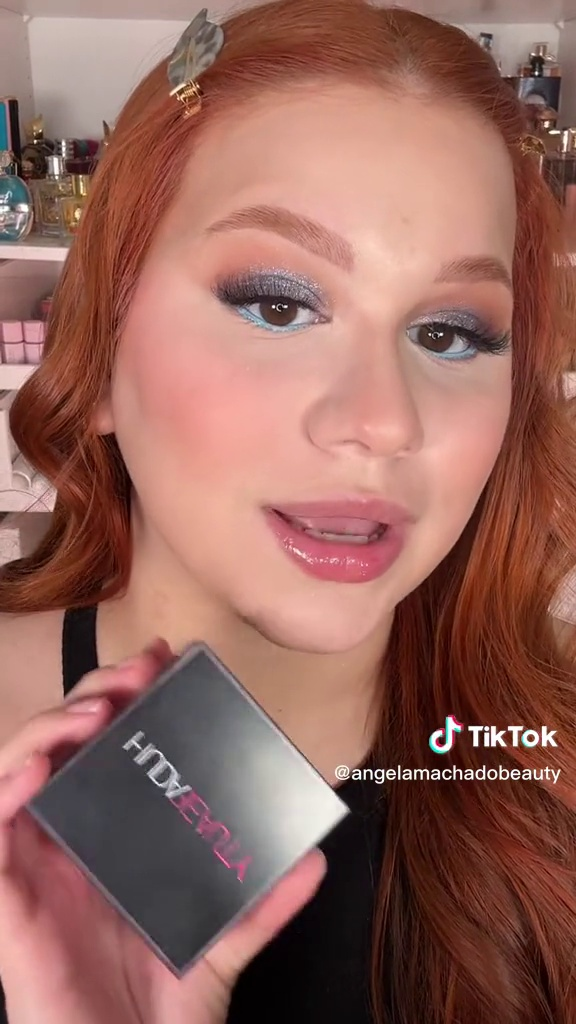train' :'yolo_data/train/images',: (16, 625, 362, 989)
